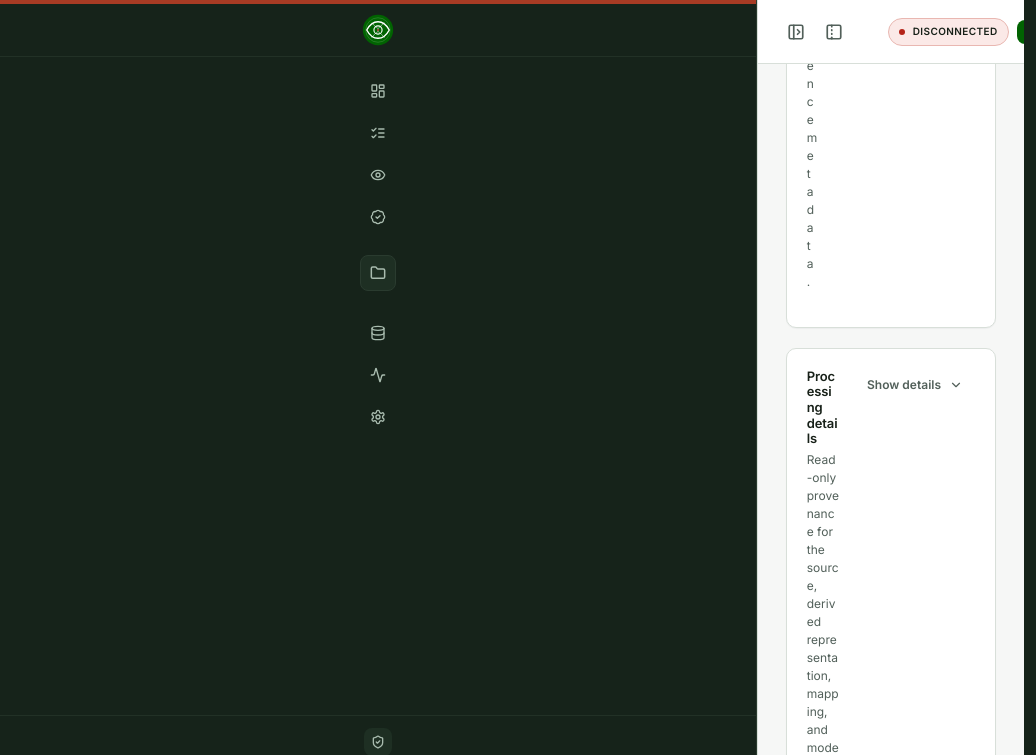
Test: Review responsibility boundary › keeps previous FALLBACK image unbounded and requires a new bound input preview
This screenshot has width=1036, height=755.
(page scrolled)
Expected: the text "FALLBACK" is not shown
Expected: the text "Fallback processing used" is not shown
Click the button "Show details". click: (915,385)
box: [855,369,975,401]
(page scrolled)
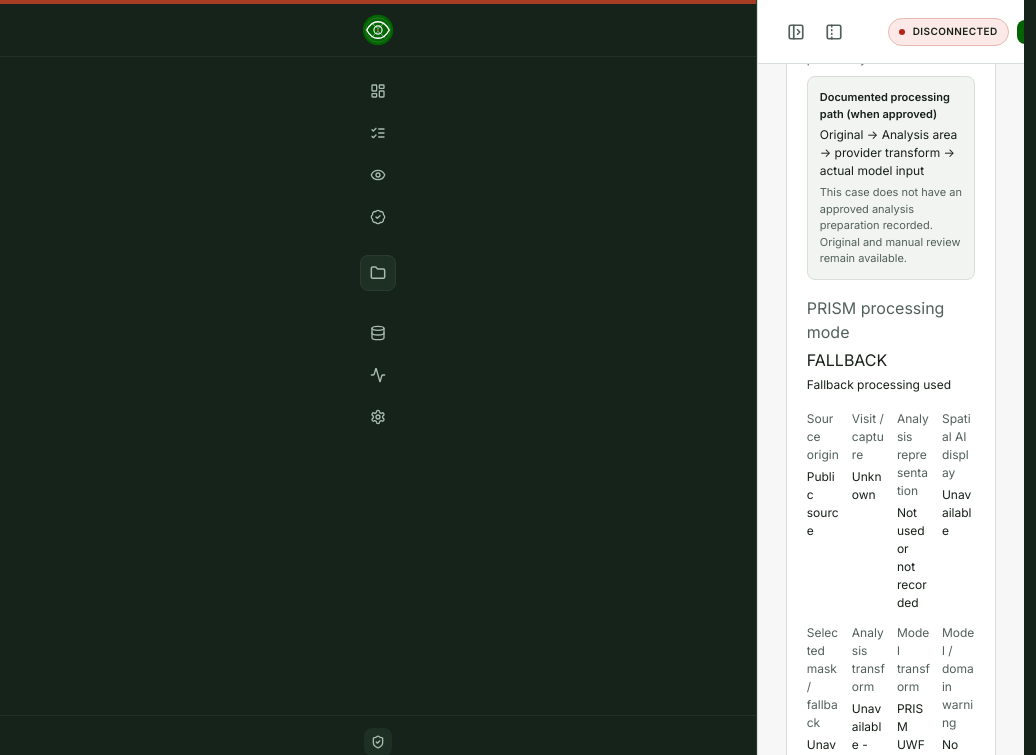
Result: the text "FALLBACK" is shown at [807,350,887,370]
Result: the text "Fallback processing used" is shown at [807,376,975,394]
